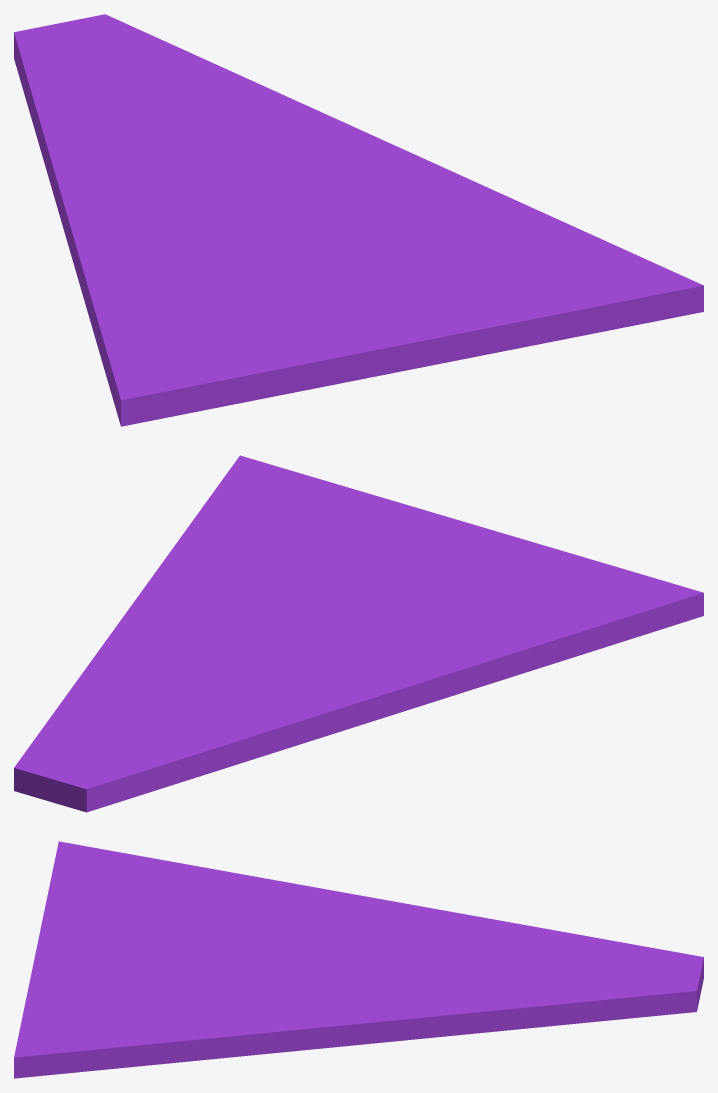
File: StairsStep_23.fbx
3 renders of one model, top to bottom at view 1: azimuth 30°, elevation 25°; view 2: azimuth 150°, elevation 25°; view 3: azimuth 270°, elevation 25°, orthographic. The views are drawn at different scales.
Parts seen in each view (by area): view 1: StairsStep_23; view 2: StairsStep_23; view 3: StairsStep_23.
Part boxes in pixels (x1,y1,x2,y2): StairsStep_23: (14, 14, 703, 426); StairsStep_23: (14, 455, 703, 812); StairsStep_23: (14, 841, 703, 1078).
Size of the model in its own units: 395 by 17.94 by 533.
